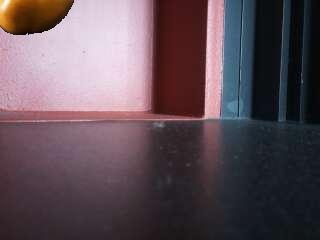Potato: (0, 0, 76, 36)
